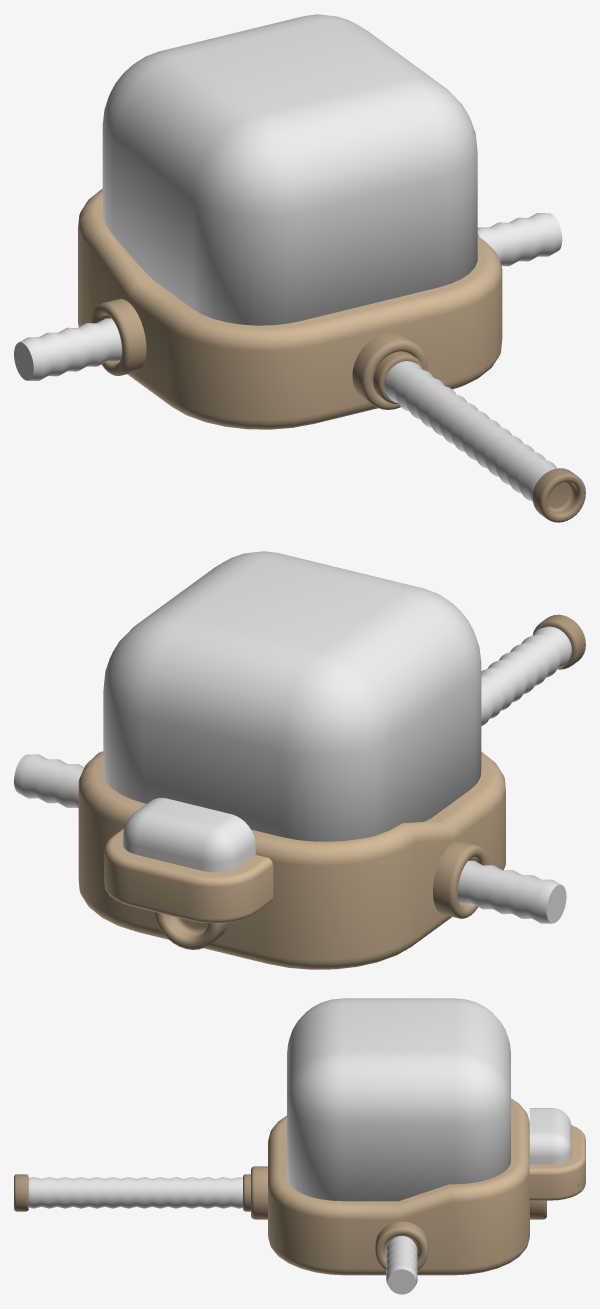
Rendered from Color-Fanus-Main.fbx.
The picture shows the model from 3 angles, top to bottom: view 1: azimuth 30°, elevation 25°; view 2: azimuth 150°, elevation 25°; view 3: azimuth 270°, elevation 25°; orthographic projection. The views are drawn at different scales.
Visible parts, largest first — view 1: Fanus-Body, Body, Pipe-Main, Pipe-Left, Pipe-Right, Input-Down, Input-Left, Pipe-Output-Down, Pipe-Output-Up; view 2: Fanus-Body, Body, Body-Target, Fanus-Target, Pipe-Left, Pipe-Main, Pipe-Right, Input-Left, Input-Up, Pipe-Output-Down; view 3: Fanus-Body, Body, Pipe-Main, Body-Target, Fanus-Target, Pipe-Right, Input-Right, Input-Down, Pipe-Output-Down.
Boxes of the visible parts, x1,y1,x2,y2 form: Fanus-Body: [102, 14, 477, 325]; Body: [78, 188, 502, 429]; Pipe-Main: [384, 361, 556, 501]; Pipe-Left: [14, 318, 121, 380]; Pipe-Right: [477, 213, 562, 266]; Input-Down: [352, 332, 427, 409]; Input-Left: [91, 298, 146, 375]; Pipe-Output-Down: [532, 468, 585, 522]; Pipe-Output-Up: [373, 351, 423, 403]; Fanus-Body: [103, 551, 481, 841]; Body: [78, 751, 505, 969]; Body-Target: [104, 828, 273, 923]; Fanus-Target: [123, 798, 255, 872]; Pipe-Left: [457, 860, 566, 923]; Pipe-Main: [481, 626, 571, 726]; Pipe-Right: [14, 754, 84, 807]; Input-Left: [433, 841, 488, 918]; Input-Up: [154, 912, 228, 949]; Pipe-Output-Down: [533, 614, 585, 669]; Fanus-Body: [287, 998, 510, 1201]; Body: [268, 1098, 529, 1275]; Pipe-Main: [28, 1177, 242, 1208]; Body-Target: [529, 1125, 585, 1200]; Fanus-Target: [529, 1108, 571, 1164]; Pipe-Right: [386, 1236, 417, 1294]; Input-Right: [375, 1221, 428, 1270]; Input-Down: [251, 1166, 267, 1219]; Pipe-Output-Down: [14, 1174, 28, 1211].
Bounding box in the file's own units: 1.66 × 0.8356 × 2.2.
